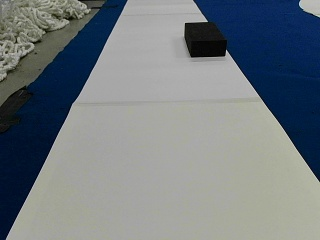block: (183, 21, 226, 58)
